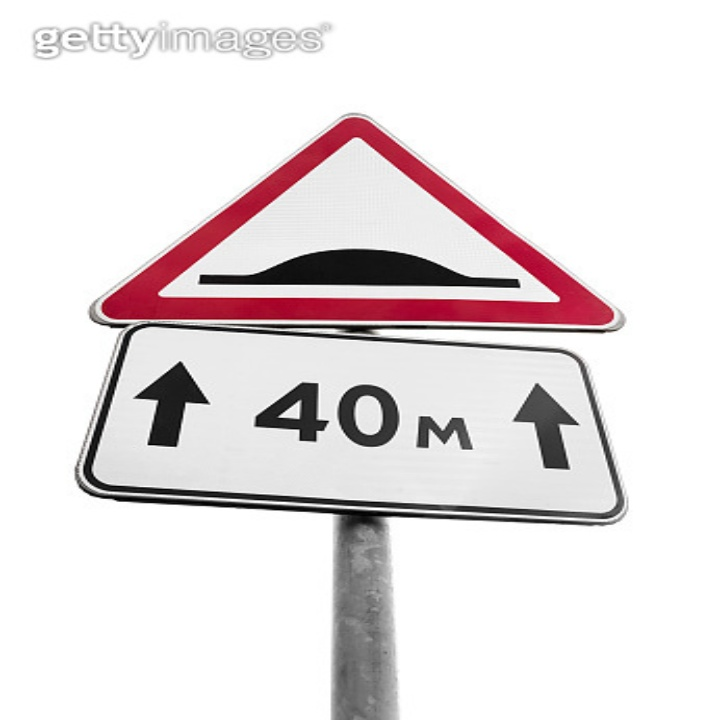bump: (193, 245, 525, 293)
